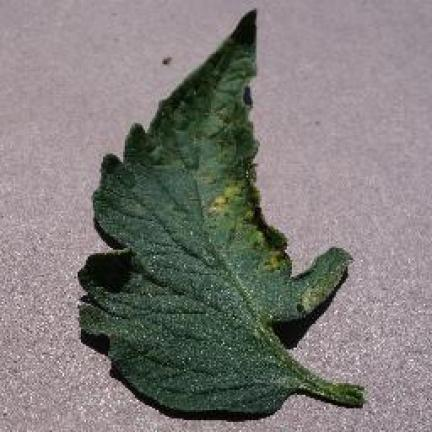disease: (79, 10, 361, 412)
leaf: (203, 165, 290, 278), (300, 260, 352, 315)
